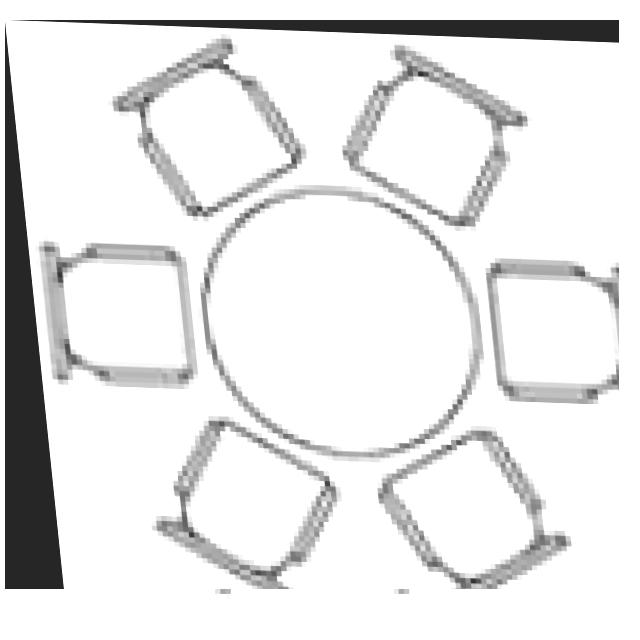table: (5, 20, 619, 589)
